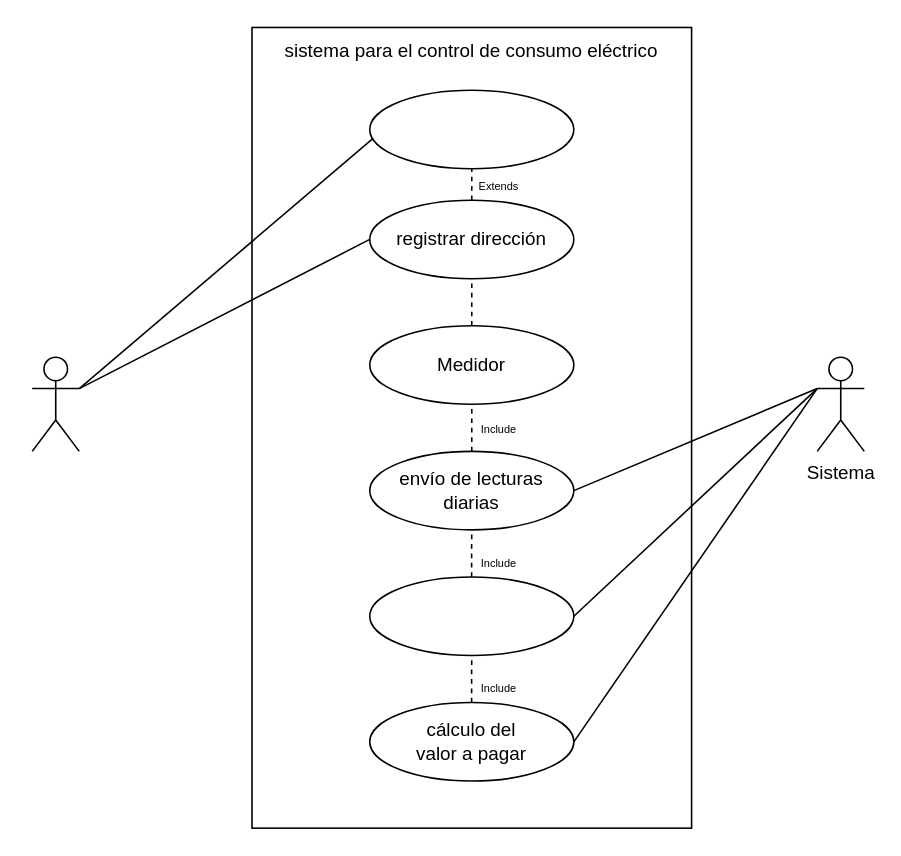
The diagram is 901 pixels wide and 856 high, and some of its shapes have lost their labels. Each missing label, with the centre of its shape:
"Cliente" belongs at point (55, 403).
"registrar datos del cliente" belongs at point (471, 129).
"registro de su consumo diario" belongs at point (471, 615).
